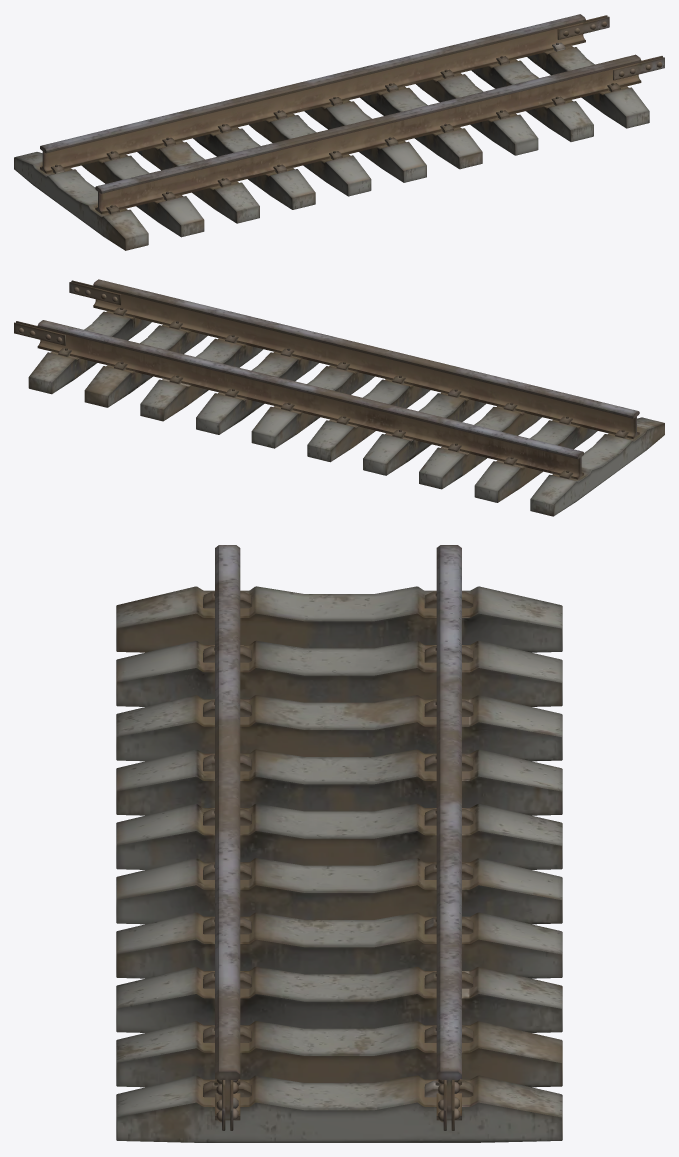
The model's file is rails.glb.
The picture shows the model from 3 angles, top to bottom: view 1: azimuth 30°, elevation 25°; view 2: azimuth 150°, elevation 25°; view 3: azimuth 270°, elevation 25°; orthographic projection. The views are drawn at different scales.
Visible parts, largest first — view 1: rails-segment; view 2: rails-segment; view 3: rails-segment.
Boxes of the visible parts, x1,y1,x2,y2 form: rails-segment: (14,14,664,250); rails-segment: (14,279,664,516); rails-segment: (116,545,562,1142).
Size of the model in its own units: 5.93 by 0.4248 by 2.02.
Materials: 1 (1 with a texture image).
